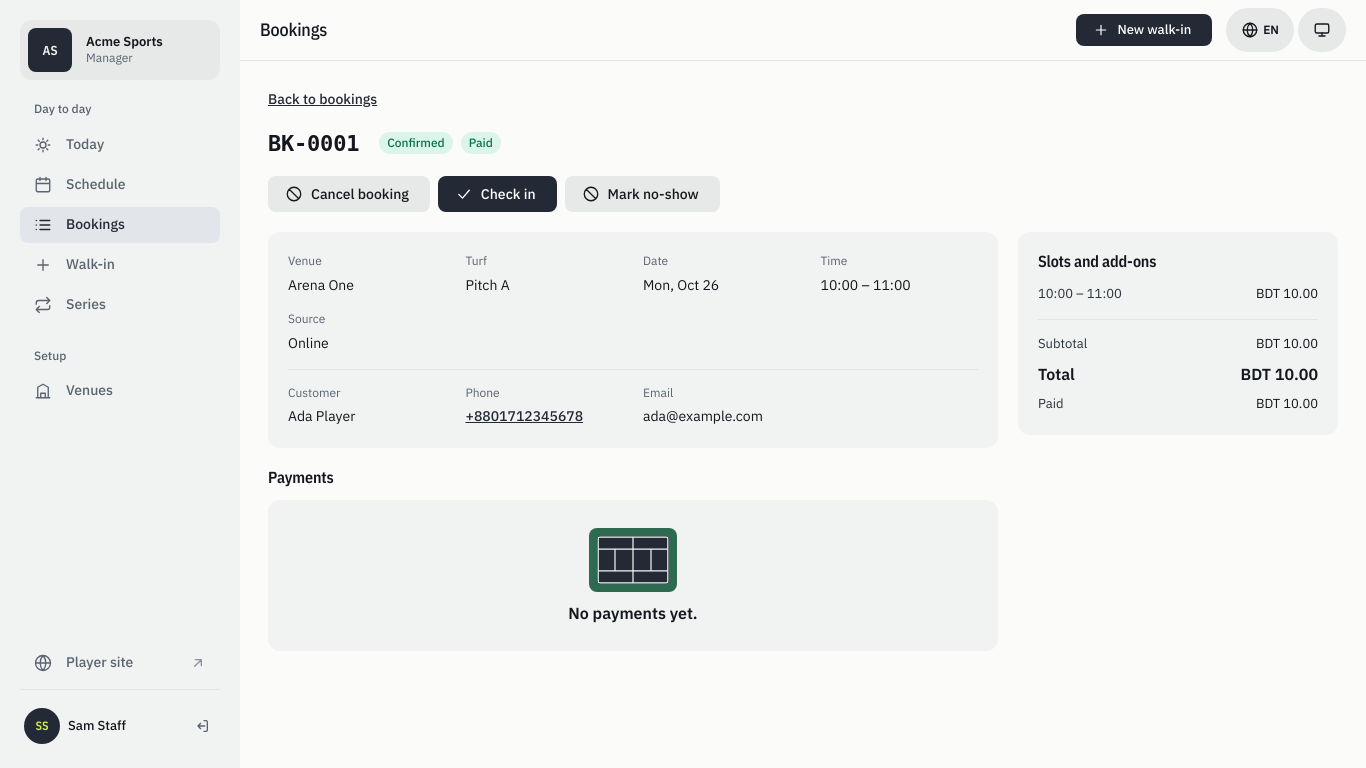
Test case: owner booking detail › cancel shows the staff preview and merges refunds
Click the button "Cancel booking" at (349, 194), box [268,176,430,212]
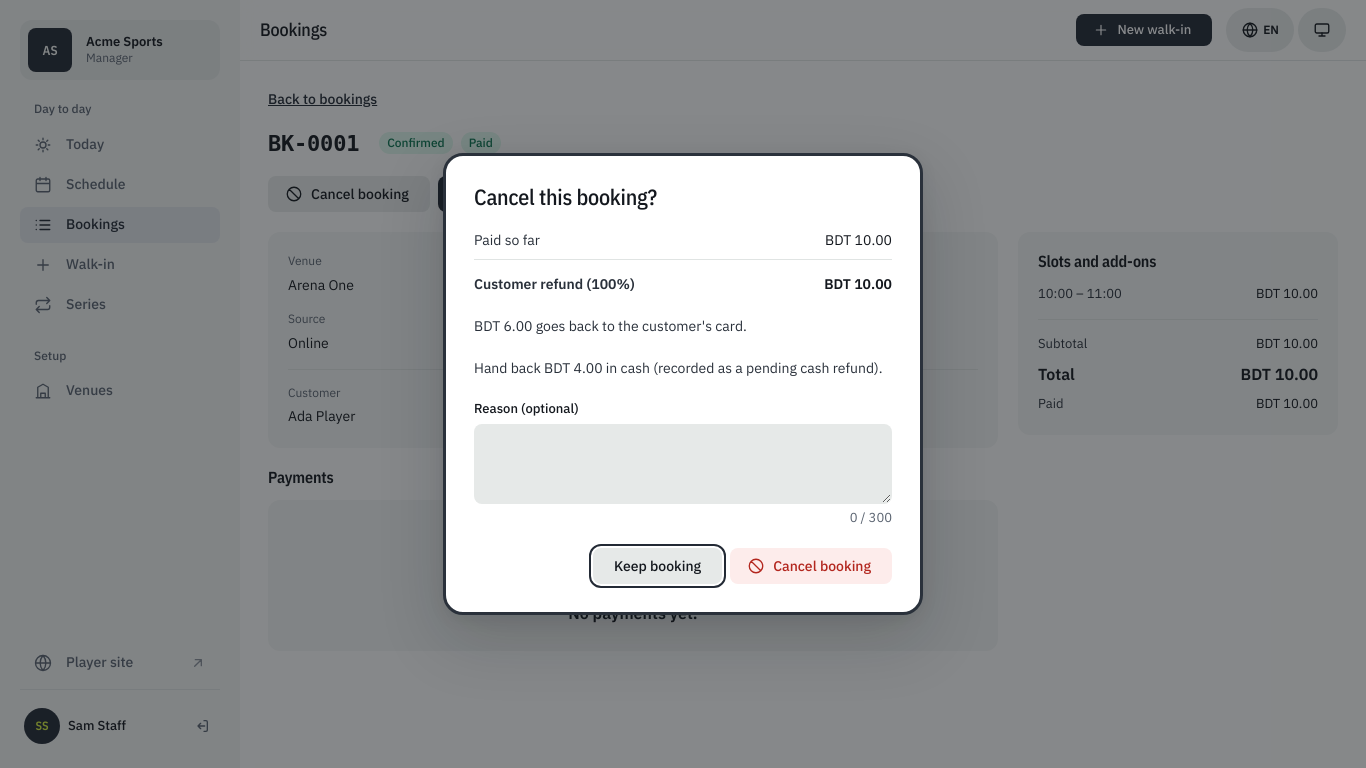
Expected: the text "Customer refund (100%)" is shown, [474,274,635,296]
Expected: the text "BDT 6.00 goes back to the customer's card." is shown, [474,317,747,335]
Click the button "Cancel booking" at (811, 566), box [730,548,892,584]
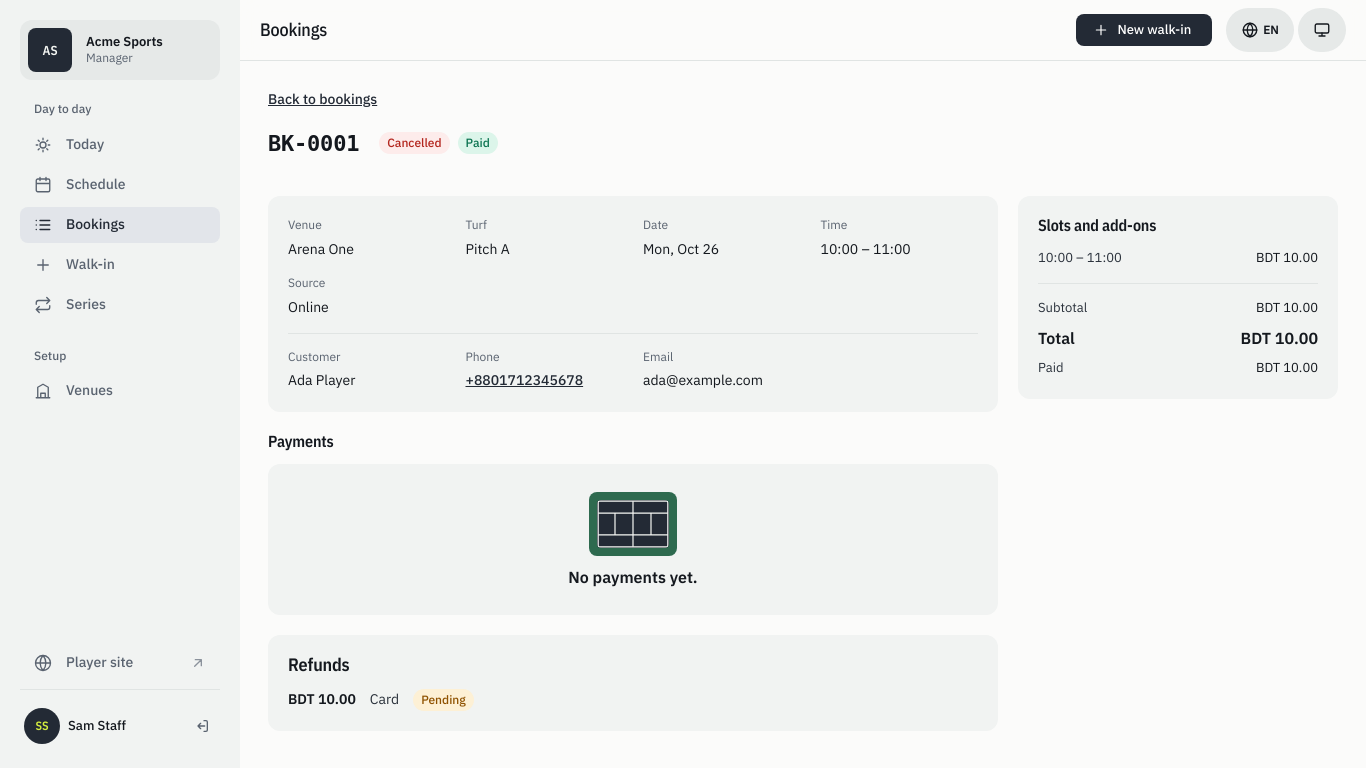
Expected: the text "BDT 10.00" next to "Card" is shown, [288,690,356,708]
Expected: the text "Cancelled" is shown, [379,132,450,154]
Expected: the heading "Refunds" is shown, [288,653,350,676]
